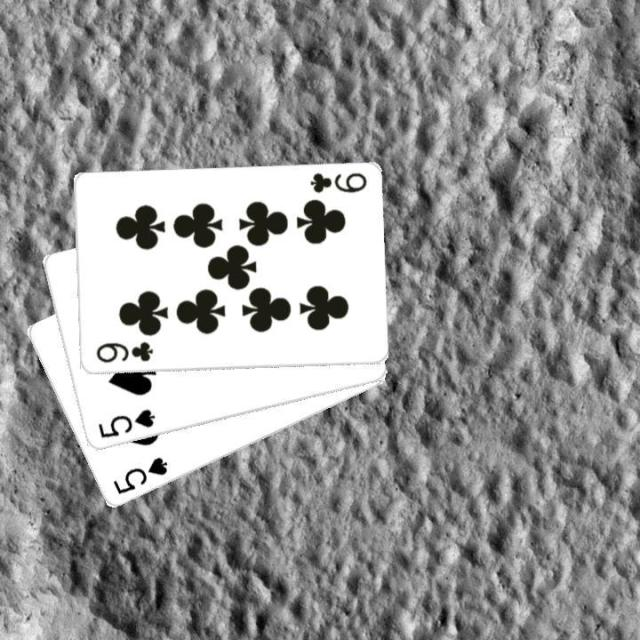5S: (108, 453, 170, 497), (94, 405, 156, 441)
9C: (92, 338, 154, 365), (305, 169, 368, 195)
